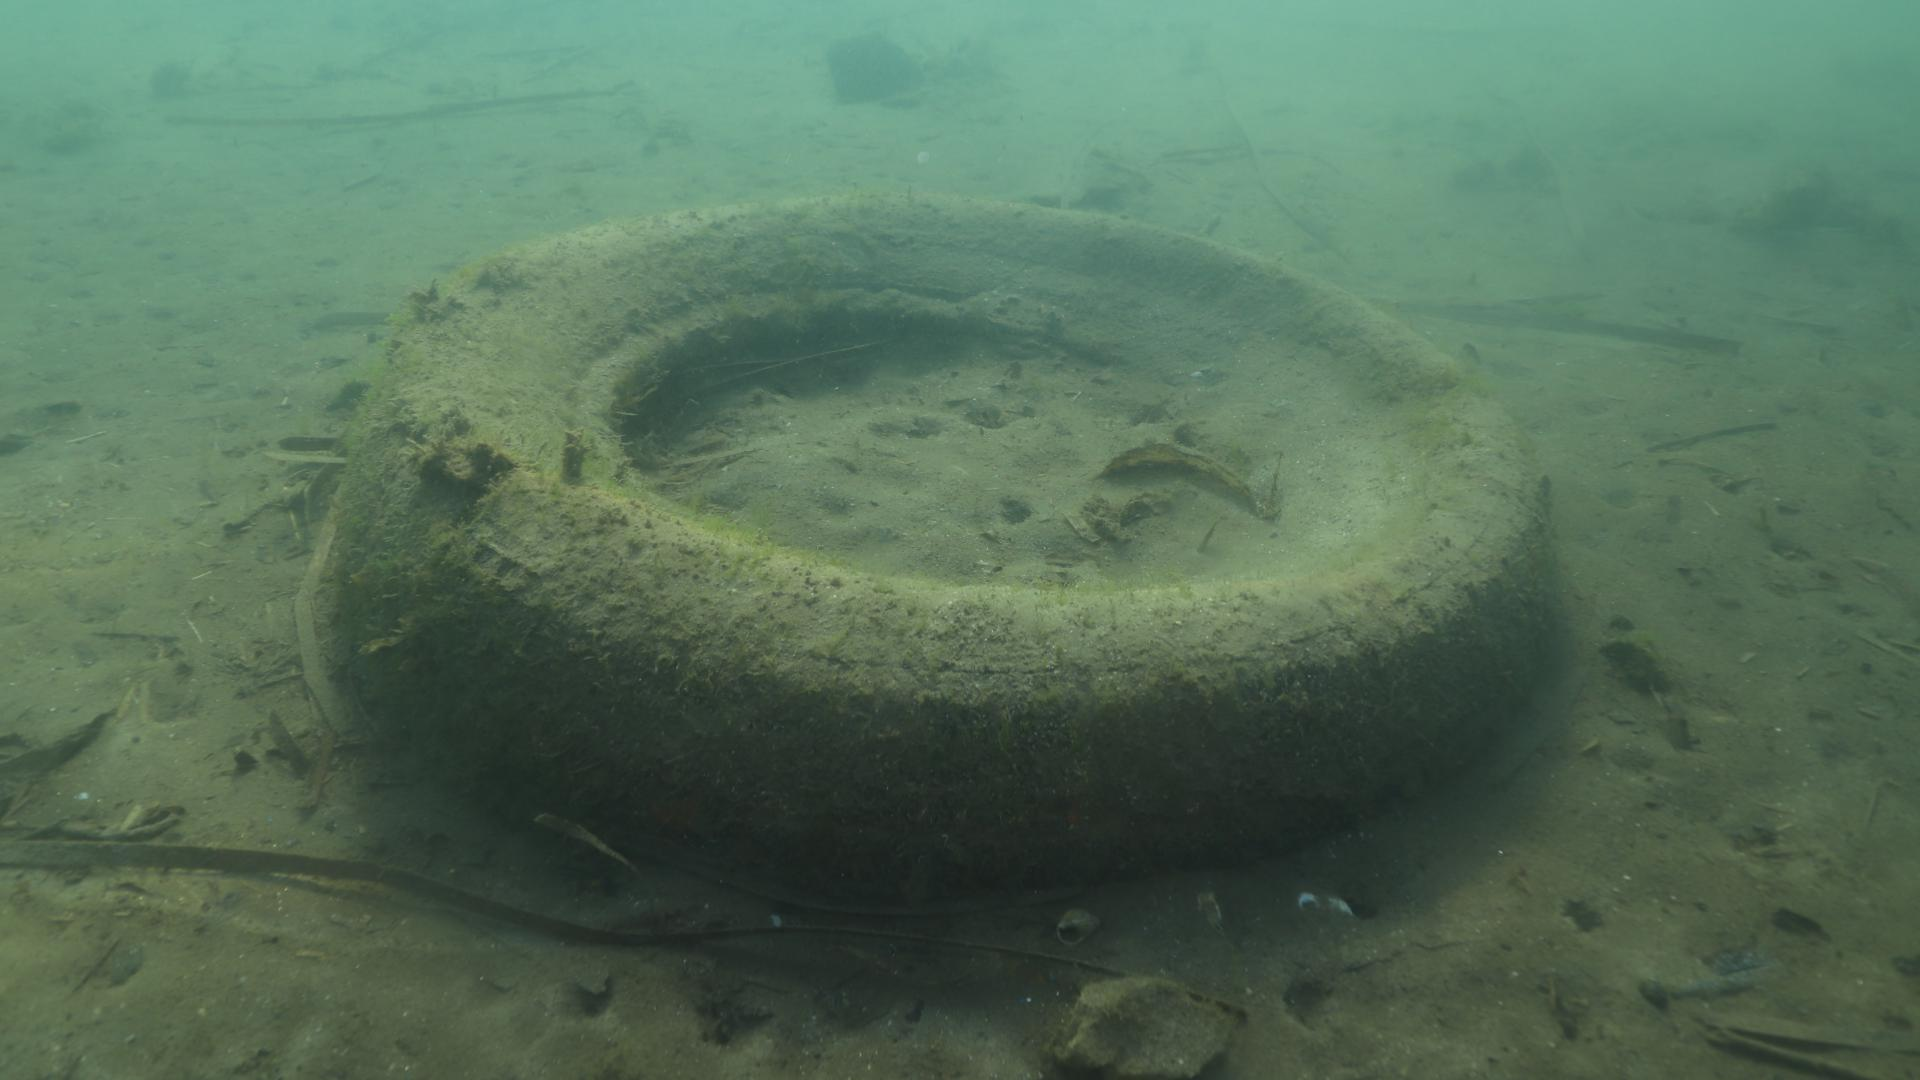tire: (324, 189, 1543, 887)
